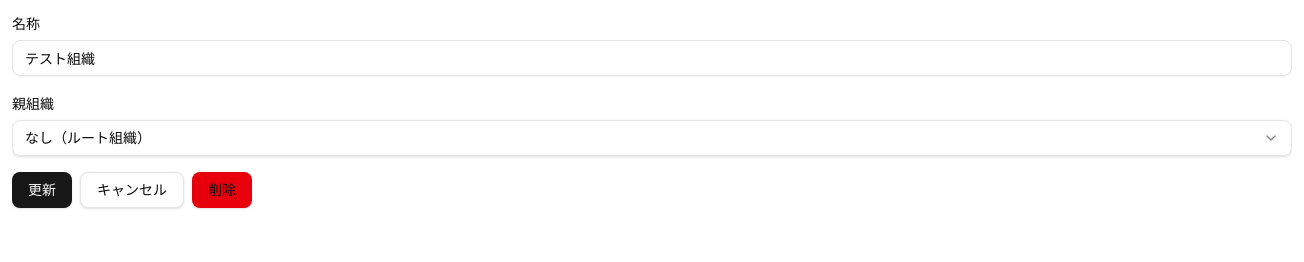
OrganizationEditForm › should display server error message when update fails
Click the button "更新" at [42, 190], box x1=12 y1=172 x2=72 y2=208
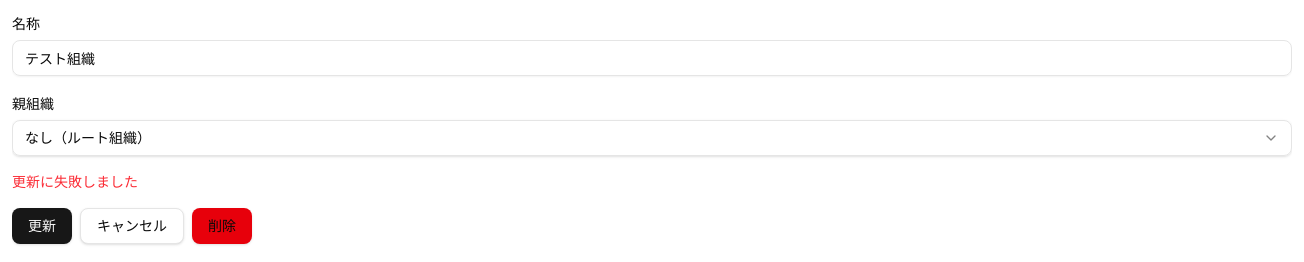
Check: the text "更新に失敗しました" is shown, box x1=12 y1=173 x2=138 y2=191
